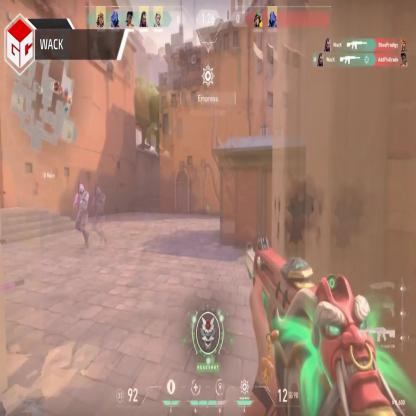enemy: (73, 184, 91, 250)
enemy_head: (78, 184, 84, 195)
